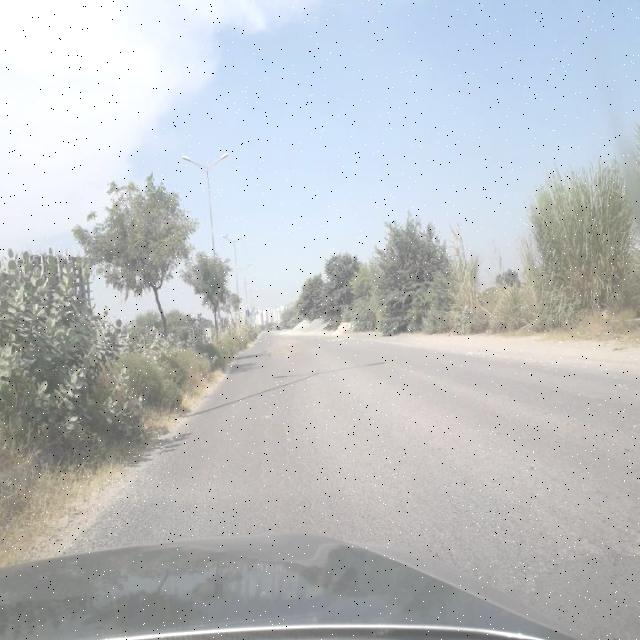D00: (260, 358, 328, 532)
D40: (431, 443, 639, 591)
